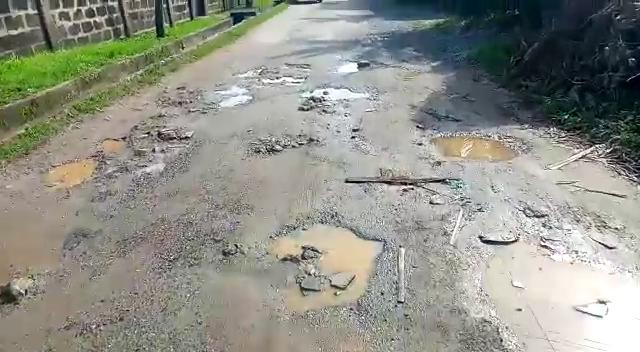pothole: (476, 242, 640, 352), (270, 219, 387, 322), (102, 119, 195, 165), (426, 128, 533, 162), (290, 87, 375, 114), (43, 155, 99, 188), (209, 88, 255, 108)
